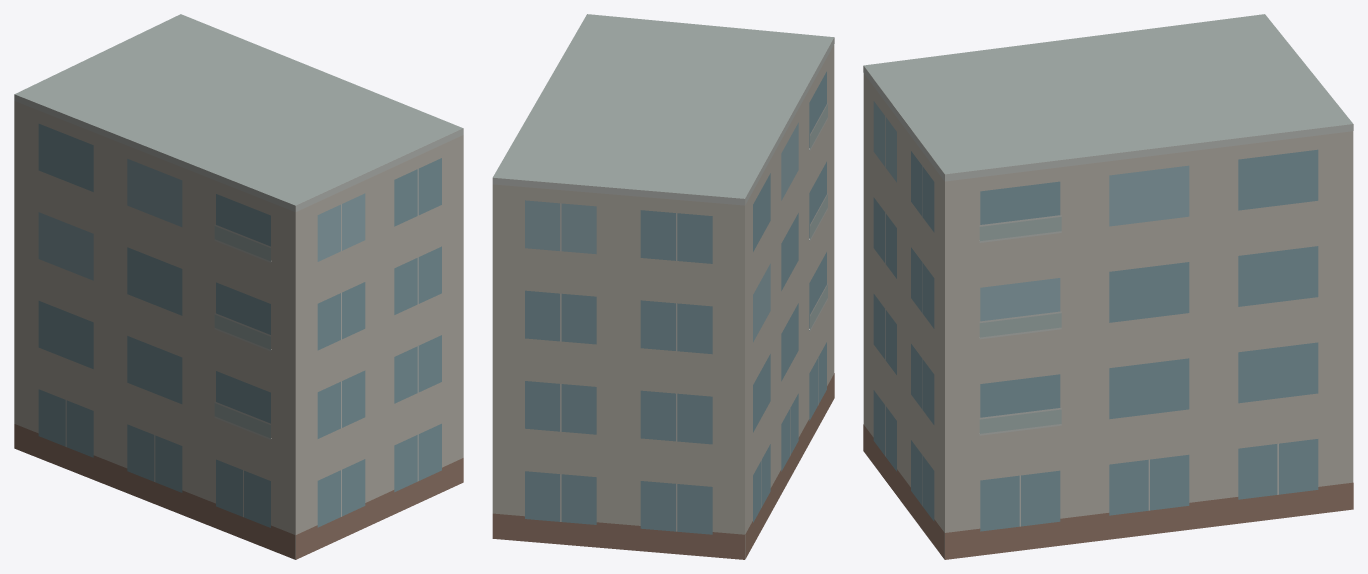
File: survey-upis-32730939.glb
The picture shows the model from 3 angles, left to right: view 1: azimuth 30°, elevation 25°; view 2: azimuth 150°, elevation 25°; view 3: azimuth 270°, elevation 25°; orthographic projection. The views are drawn at different scales.
Parts seen in each view (by area): view 1: survey-upis-32730939.tmp; view 2: survey-upis-32730939.tmp; view 3: survey-upis-32730939.tmp.
Part boxes in pixels (x1=…): survey-upis-32730939.tmp: x1=14, y1=14, x2=463, y2=559; survey-upis-32730939.tmp: x1=492, y1=14, x2=834, y2=559; survey-upis-32730939.tmp: x1=863, y1=14, x2=1353, y2=559.
Bounding box in the file's own units: 11.75 × 13.15 × 15.16.
